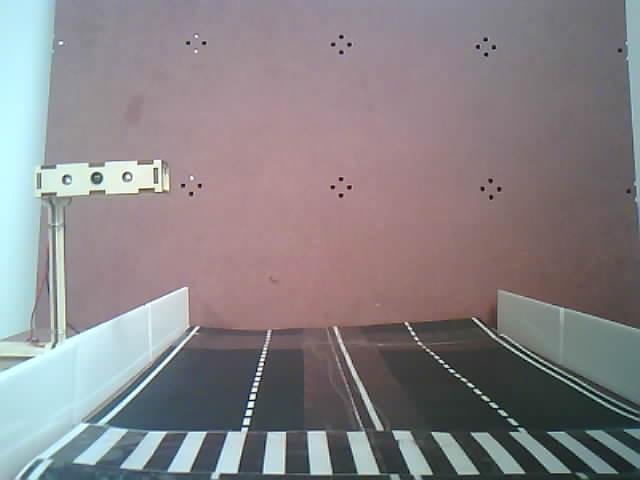crosswalk: (16, 399, 640, 480)
no: (17, 135, 199, 365)
